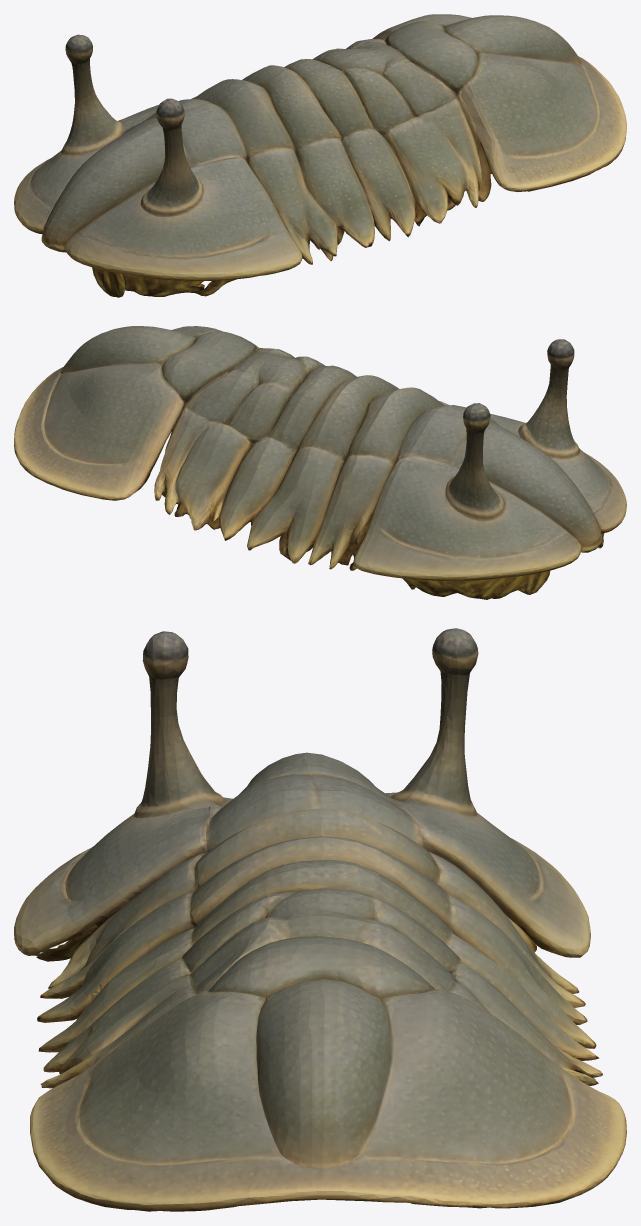
The picture shows the model from 3 angles, top to bottom: view 1: azimuth 30°, elevation 25°; view 2: azimuth 150°, elevation 25°; view 3: azimuth 270°, elevation 25°; orthographic projection. The views are drawn at different scales.
Parts seen in each view (by area): view 1: world; view 2: world; view 3: world.
Part boxes in pixels (x1=…): world: x1=14, y1=14, x2=626, y2=297; world: x1=14, y1=326, x2=626, y2=599; world: x1=14, y1=628, x2=626, y2=1211.
Bounding box in the file's own units: 0.9914 × 0.3305 × 0.5836.
1 material, 1 textured.
